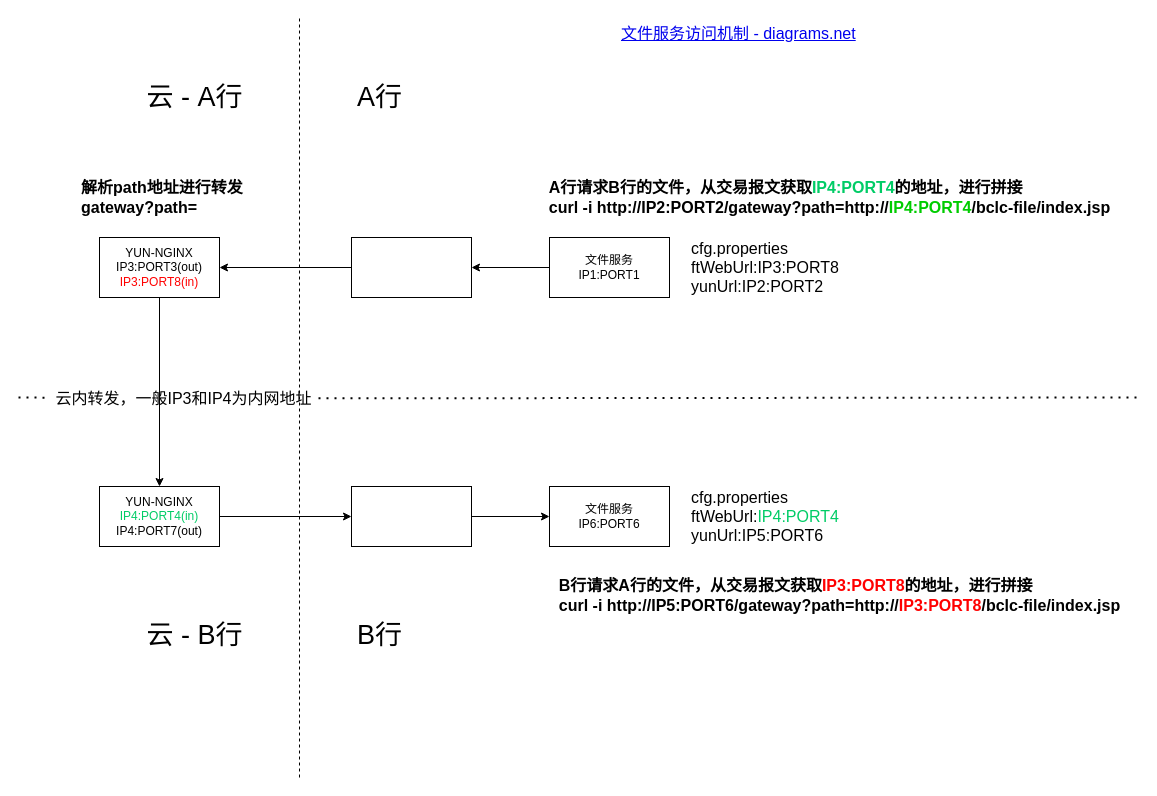
Some shapes in this 1157 by 796 pixel diagram are drawn without their labels. Each missing label, with the centre of its shape:
DMZ-NGINX IP2:PORT2(out) IP2:PORT9(in): point 411,267
DMZ-NGINX IP5:PORT5 (in) IP5:PORT6(out): point 411,516
